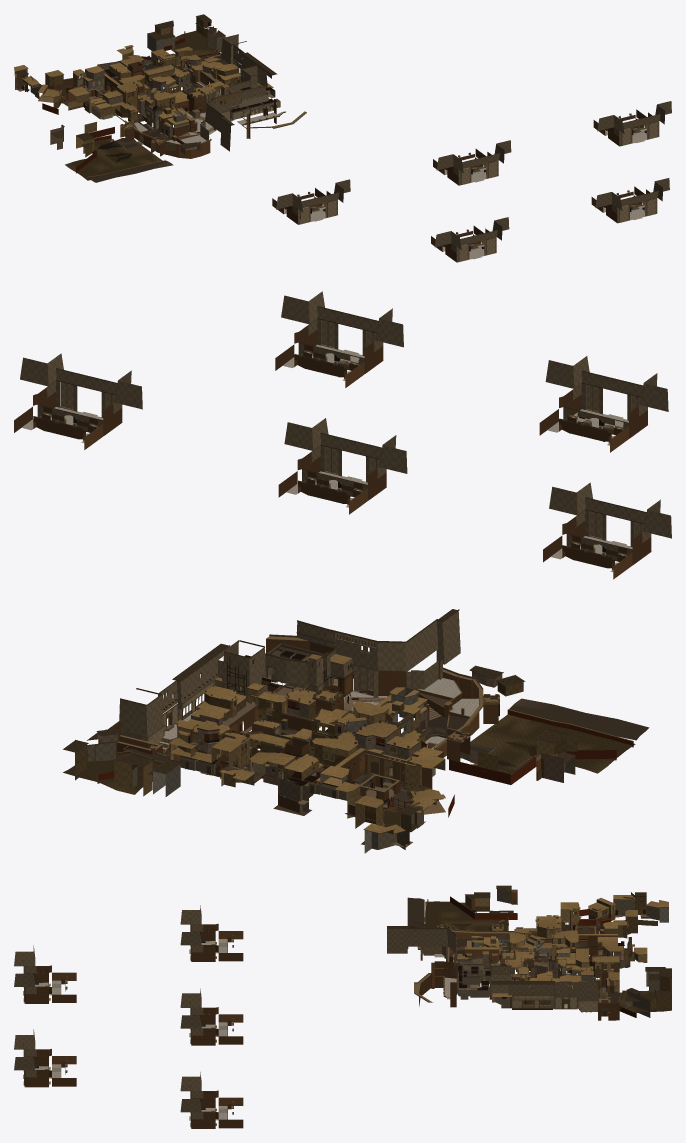
File: de_mirage.glb
3 views of the same model, one above another, from view 1: azimuth 30°, elevation 25°; view 2: azimuth 150°, elevation 25°; view 3: azimuth 270°, elevation 25° (orthographic). The views are drawn at different scales.
Parts seen in each view (by area): view 1: plaster, sand, default, brick, tile, marble, market, wood; view 2: plaster, sand, brick, default, tile, marble, market, wood; view 3: plaster, sand, brick, default, tile, marble, market, wood.
Part boxes in pixels (x1,y1,x2,y2): plaster: [15, 27, 671, 261]; sand: [14, 17, 279, 180]; default: [15, 14, 660, 262]; brick: [14, 20, 652, 261]; tile: [15, 52, 636, 245]; marble: [134, 111, 659, 262]; market: [42, 37, 220, 173]; wood: [22, 22, 646, 250]; plaster: [20, 291, 671, 853]; sand: [63, 634, 635, 844]; brick: [14, 326, 651, 833]; default: [14, 301, 650, 849]; tile: [64, 356, 649, 847]; marble: [21, 344, 651, 749]; market: [99, 700, 633, 817]; wood: [162, 361, 623, 808]; plaster: [14, 889, 668, 1126]; sand: [410, 892, 671, 1016]; brick: [25, 892, 671, 1128]; default: [23, 885, 671, 1128]; tile: [45, 897, 651, 1111]; marble: [23, 938, 607, 1128]; market: [425, 897, 655, 1017]; wood: [438, 906, 645, 1001].
Size of the model in its own units: 310 by 27.33 by 347.
Materials: 12 (12 with a texture image).
